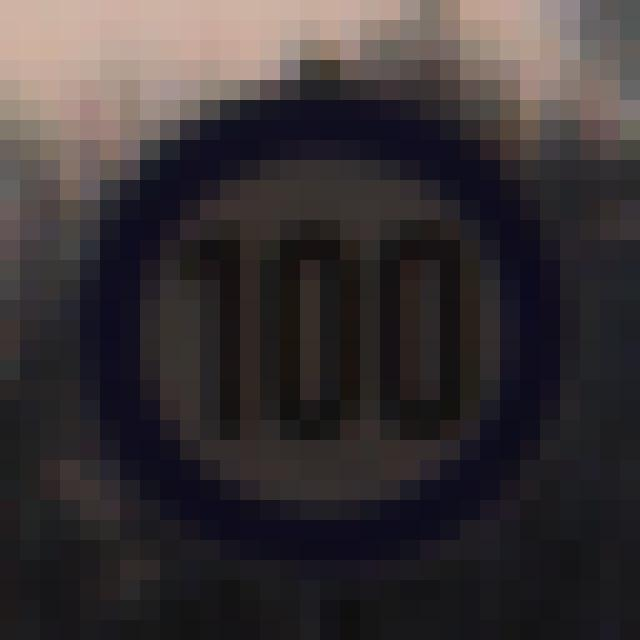SPEED LIMIT 100: (85, 85, 557, 535)
